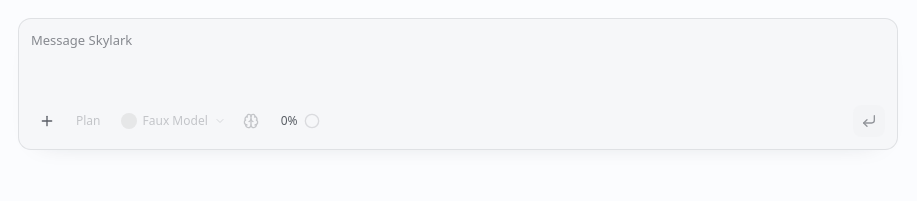
Test case: ChatWorkbench › clears prompt attachment errors when switching sessions
Click the button named "Attach files": (47, 121) 31,105 -> 63,137
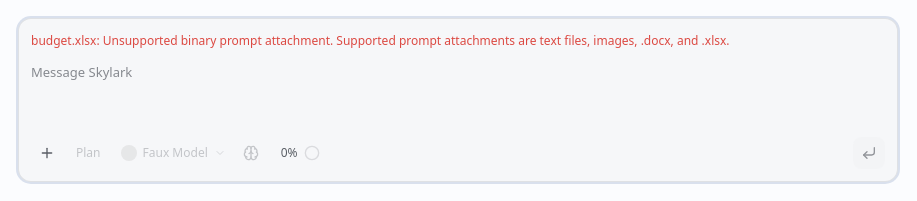
Now the text "budget.xlsx" is shown, box 31,32 -> 96,49
